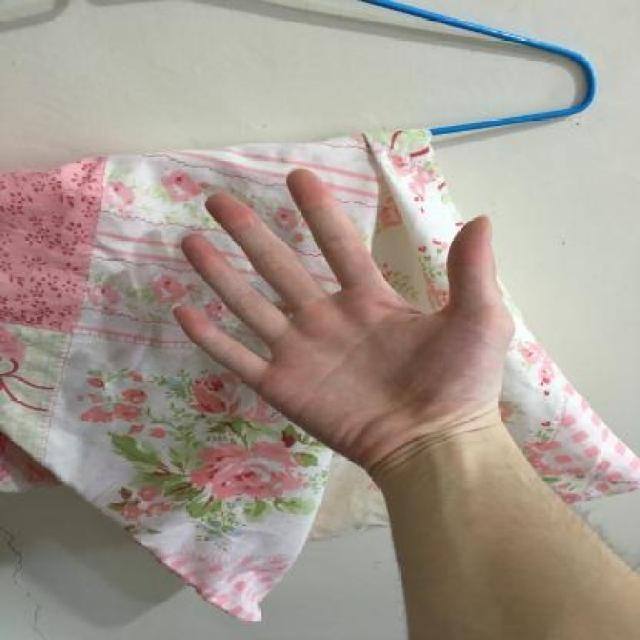bare_hand: (167, 150, 536, 472)
